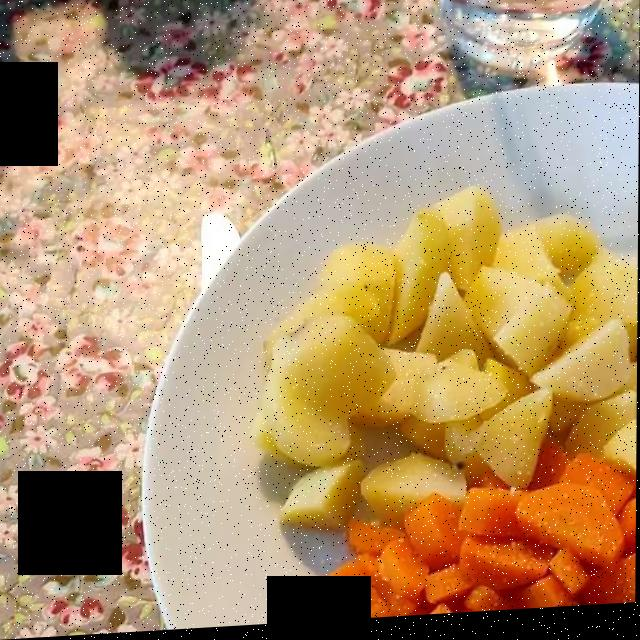carrot-steamed-without-addition-of-salt: (306, 452, 633, 616)
potatoes-steamed: (255, 196, 630, 532)
